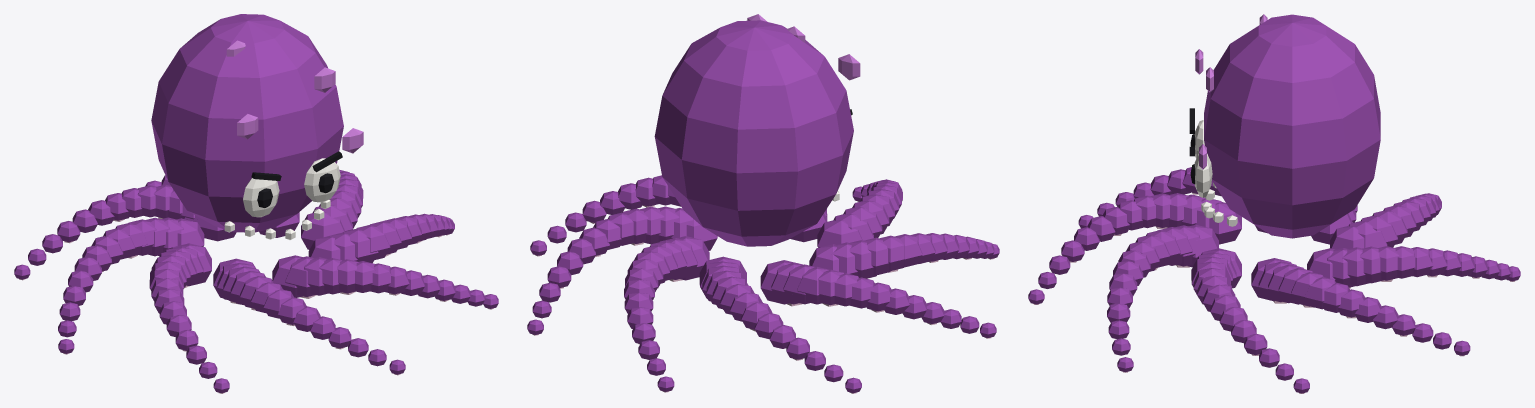
File: octopus_tinta.glb
3 views of the same model, side by side, from view 1: azimuth 30°, elevation 25°; view 2: azimuth 150°, elevation 25°; view 3: azimuth 270°, elevation 25° (orthographic). The views are drawn at different scales.
Parts seen in each view (by area): view 1: arms_octopus_skin, head_octopus_skin, face_white, head_octopus_spot, face_black, head_white; view 2: arms_octopus_skin, head_octopus_skin, head_octopus_spot; view 3: arms_octopus_skin, head_octopus_skin, face_white, head_octopus_spot, head_white.
Boxes of the visible parts, x1,y1,x2,y2 form: arms_octopus_skin: (14, 170, 498, 393); head_octopus_skin: (151, 14, 343, 232); face_white: (243, 158, 340, 217); head_octopus_spot: (226, 40, 363, 153); face_black: (251, 151, 342, 207); head_white: (224, 200, 330, 239); arms_octopus_skin: (527, 175, 999, 393); head_octopus_skin: (654, 20, 853, 246); head_octopus_spot: (747, 14, 860, 80); arms_octopus_skin: (1028, 167, 1520, 393); head_octopus_skin: (1204, 14, 1380, 238); face_white: (1194, 120, 1212, 197); head_octopus_spot: (1195, 14, 1267, 169); head_white: (1201, 182, 1237, 226).
Size of the model in its own units: 1.38 by 0.8336 by 1.38.
